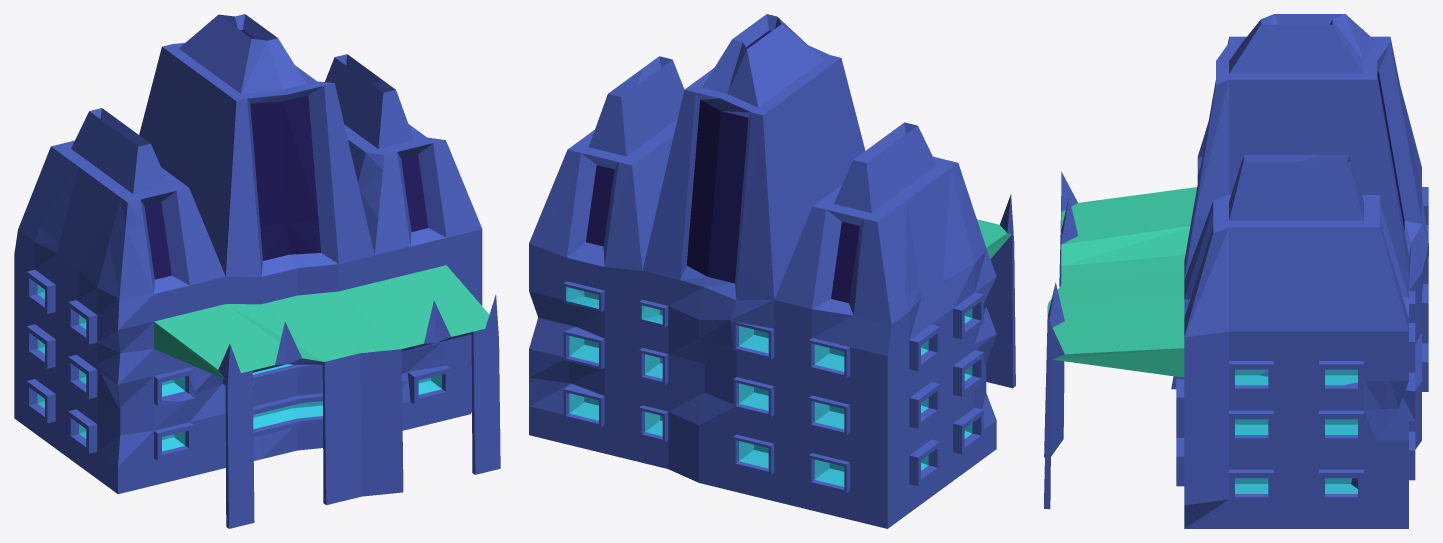
3 views of the same model, side by side, from view 1: azimuth 30°, elevation 25°; view 2: azimuth 150°, elevation 25°; view 3: azimuth 270°, elevation 25° (orthographic). The views are drawn at different scales.
Visible parts, largest first — view 1: Box001_Part_3, Box001_Part_4, Box001_Part_5, Box001_Part_2, Box001_Part_1, Box001_Part_6; view 2: Box001_Part_1, Box001_Part_4, Box001_Part_3, Box001_Part_5; view 3: Box001_Part_4, Box001_Part_2, Box001_Part_6, Box001_Part_3, Box001_Part_1, Box001_Part_5.
Part boxes in pixels (<box>): Box001_Part_3: <box>68,208,499,528</box>; Box001_Part_4: <box>26,14,410,271</box>; Box001_Part_5: <box>59,311,500,494</box>; Box001_Part_2: <box>360,124,489,342</box>; Box001_Part_1: <box>14,208,79,450</box>; Box001_Part_6: <box>341,190,471,420</box>; Box001_Part_1: <box>529,215,962,528</box>; Box001_Part_4: <box>547,14,965,297</box>; Box001_Part_3: <box>946,185,1015,388</box>; Box001_Part_5: <box>935,318,996,493</box>; Box001_Part_4: <box>1193,14,1417,288</box>; Box001_Part_2: <box>1049,208,1407,476</box>; Box001_Part_6: <box>1117,215,1395,528</box>; Box001_Part_3: <box>1044,123,1208,464</box>; Box001_Part_1: <box>1351,118,1428,528</box>; Box001_Part_5: <box>1044,376,1184,509</box>.
Size of the model in its own units: 125 by 127 by 105.
